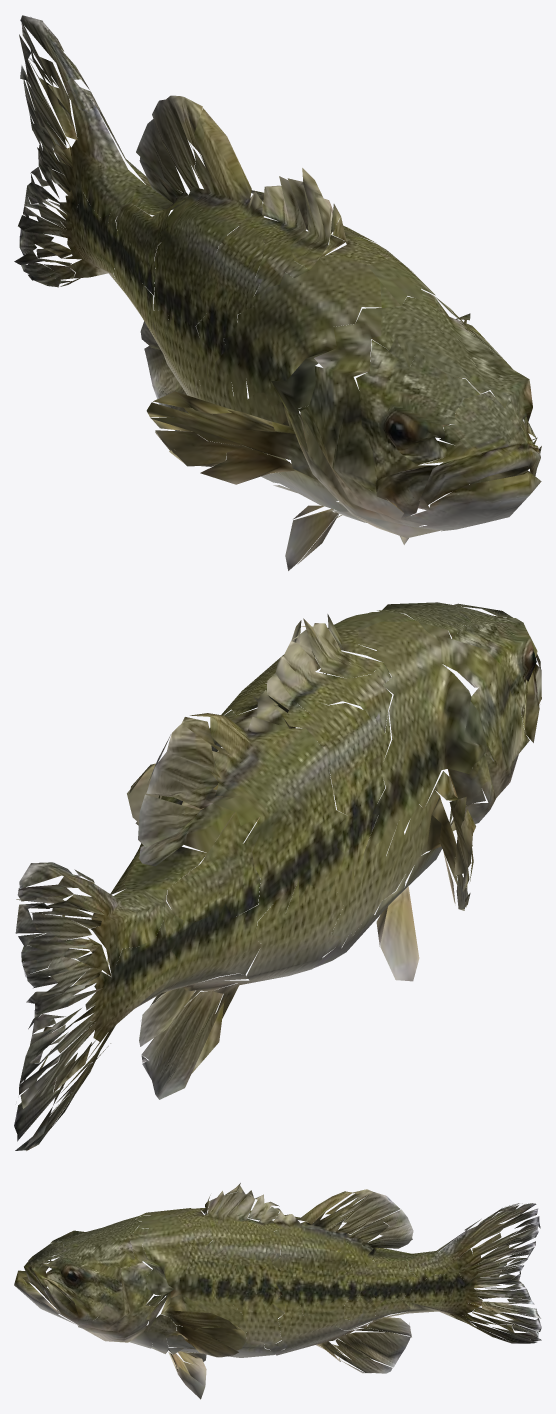
File: fish.glb
The picture shows the model from 3 angles, top to bottom: view 1: azimuth 30°, elevation 25°; view 2: azimuth 150°, elevation 25°; view 3: azimuth 270°, elevation 25°; orthographic projection. The views are drawn at different scales.
Visible parts, largest first — view 1: tripo_node_d25bd430-f9a6-40b4-9f5a-d8eae5fad52b; view 2: tripo_node_d25bd430-f9a6-40b4-9f5a-d8eae5fad52b; view 3: tripo_node_d25bd430-f9a6-40b4-9f5a-d8eae5fad52b.
Boxes of the visible parts, x1,y1,x2,y2 form: tripo_node_d25bd430-f9a6-40b4-9f5a-d8eae5fad52b: (14, 15, 541, 570); tripo_node_d25bd430-f9a6-40b4-9f5a-d8eae5fad52b: (14, 602, 541, 1150); tripo_node_d25bd430-f9a6-40b4-9f5a-d8eae5fad52b: (14, 1183, 541, 1399).
Bounding box in the file's own units: 0.2271 × 0.2507 × 0.6.
Materials: 1 (1 with a texture image).
